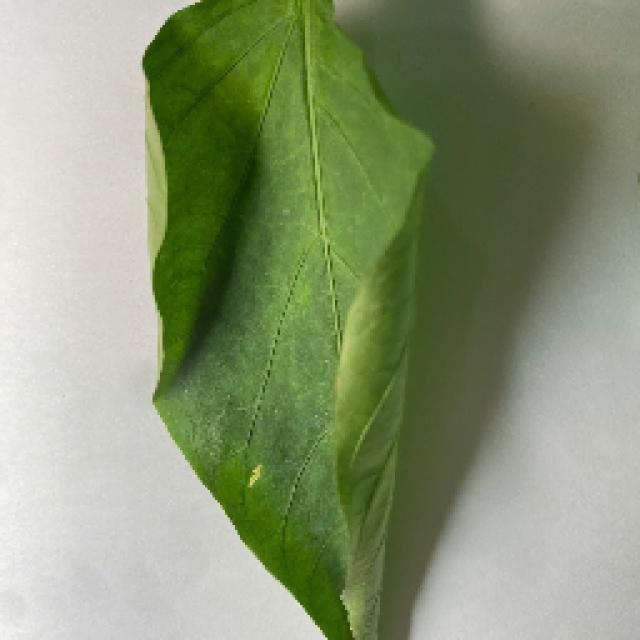Leaf: (135, 0, 434, 640)
